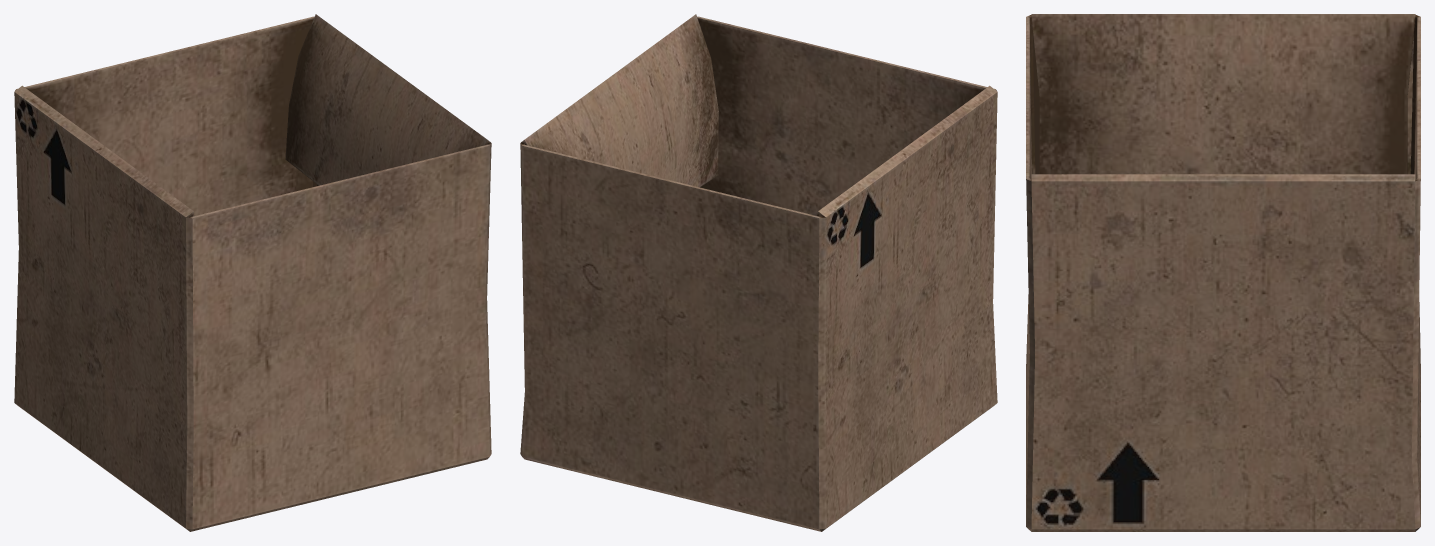
File: SM_Cardboard_Box05.glb
3 views of the same model, side by side, from view 1: azimuth 30°, elevation 25°; view 2: azimuth 150°, elevation 25°; view 3: azimuth 270°, elevation 25° (orthographic). The views are drawn at different scales.
Parts seen in each view (by area): view 1: SM_Cardboard_Box05; view 2: SM_Cardboard_Box05; view 3: SM_Cardboard_Box05.
Boxes of the visible parts, left/top/right/bottom form: SM_Cardboard_Box05: left=14, top=14, right=491, bottom=531; SM_Cardboard_Box05: left=520, top=14, right=997, bottom=531; SM_Cardboard_Box05: left=1026, top=14, right=1420, bottom=531.
Bounding box in the file's own units: 0.5 × 0.5 × 0.5.
1 material, 1 textured.
